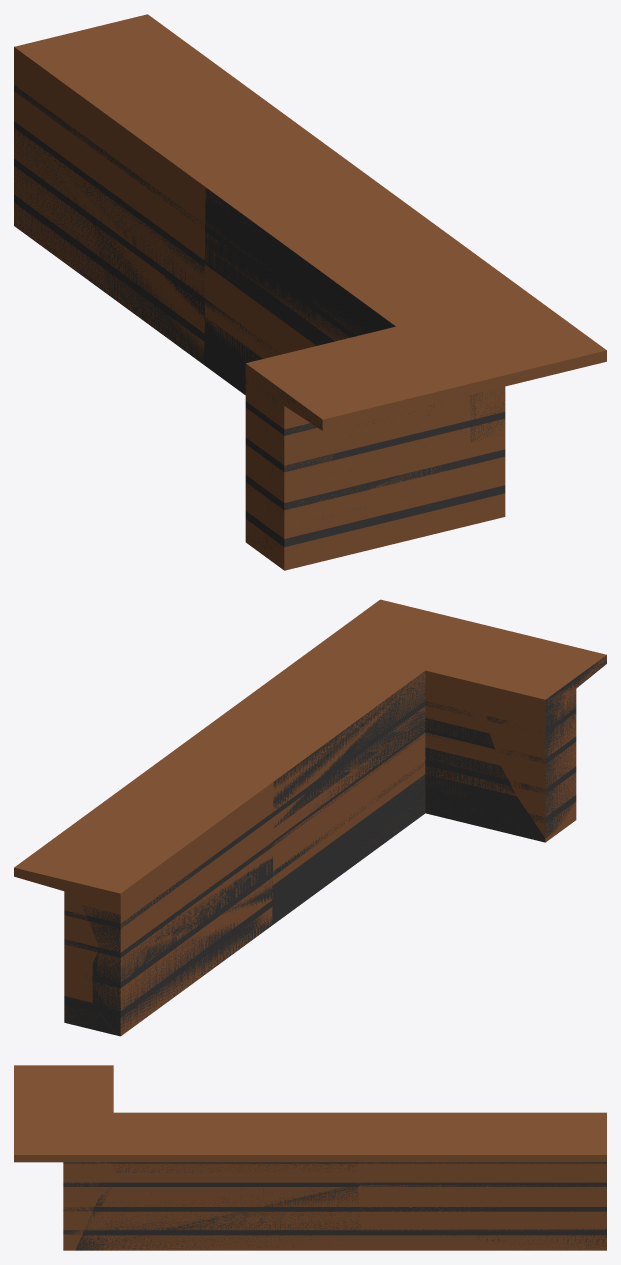
Rendered from bar.fbx.
3 renders of one model, top to bottom at view 1: azimuth 30°, elevation 25°; view 2: azimuth 150°, elevation 25°; view 3: azimuth 270°, elevation 25°, orthographic. The views are drawn at different scales.
Parts seen in each view (by area): view 1: Cube, Cube_cell.019, Cube_cell.003, Cube_cell.008, Cube_cell.016, Cube_cell.005, Cube_cell.014, Cube_cell.012, Cube_cell.013, Cube_cell.007, Cube_cell.011, Cube_cell.009; view 2: Cube, Cube_cell.012, Cube_cell.016, Cube_cell.003, Cube_cell.011, Cube_cell.019, Cube_cell.008, Cube_cell.013, Cube_cell.007, Cube_cell.005, Cube_cell.014, Cube_cell.001 (+2 smaller); view 3: Cube, Cube_cell.008, Cube_cell.003, Cube_cell.002, Cube_cell.019, Cube_cell.004, Cube_cell, Cube_cell.001, Cube_cell.006, Cube_cell.015, Cube_cell.010.
Part boxes in pixels (box(x1,y1,x2,y2)): Cube: box(14, 31, 606, 570); Cube_cell.019: box(205, 162, 494, 347); Cube_cell.003: box(14, 31, 270, 211); Cube_cell.008: box(81, 14, 346, 170); Cube_cell.016: box(14, 122, 204, 364); Cube_cell.005: box(14, 73, 204, 259); Cube_cell.014: box(204, 246, 334, 345); Cube_cell.012: box(203, 317, 262, 547); Cube_cell.013: box(205, 287, 296, 358); Cube_cell.007: box(204, 264, 316, 349); Cube_cell.011: box(245, 371, 366, 549); Cube_cell.009: box(308, 443, 469, 518); Cube: box(14, 599, 606, 1036); Cube_cell.012: box(272, 774, 560, 925); Cube_cell.016: box(92, 856, 272, 1036); Cube_cell.003: box(68, 769, 272, 913); Cube_cell.011: box(481, 656, 606, 837); Cube_cell.019: box(253, 646, 501, 828); Cube_cell.008: box(14, 751, 220, 889); Cube_cell.013: box(273, 747, 516, 884); Cube_cell.007: box(272, 732, 500, 857); Cube_cell.005: box(82, 832, 272, 952); Cube_cell.014: box(309, 718, 494, 816); Cube_cell.001: box(64, 957, 92, 1002); Cube: box(14, 1065, 606, 1250); Cube_cell.008: box(349, 1133, 606, 1162); Cube_cell.003: box(359, 1112, 606, 1133); Cube_cell.002: box(75, 1185, 360, 1250); Cube_cell.019: box(113, 1146, 357, 1172); Cube_cell.004: box(358, 1185, 606, 1196); Cube_cell: box(14, 1155, 150, 1196); Cube_cell.001: box(359, 1197, 606, 1226); Cube_cell.006: box(357, 1162, 606, 1184); Cube_cell.015: box(63, 1197, 98, 1250); Cube_cell.010: box(362, 1229, 606, 1250).
Size of the model in its own units: 203 by 122 by 569.
